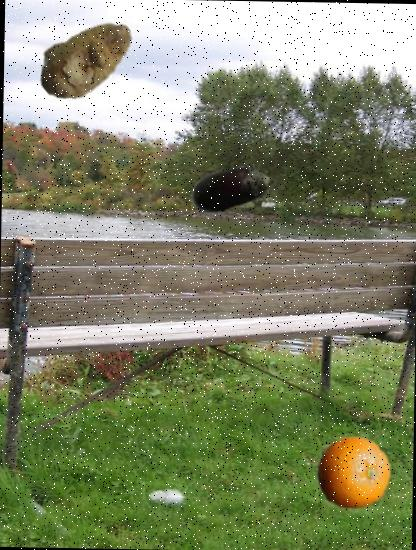Eggplant: (188, 140, 282, 234)
Ginger: (32, 4, 139, 111)
Orange: (315, 435, 390, 510)
